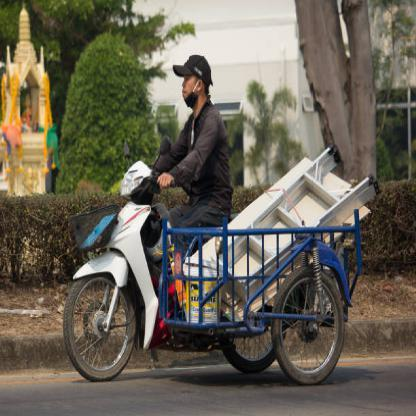Motorcycle: (57, 148, 162, 379)
